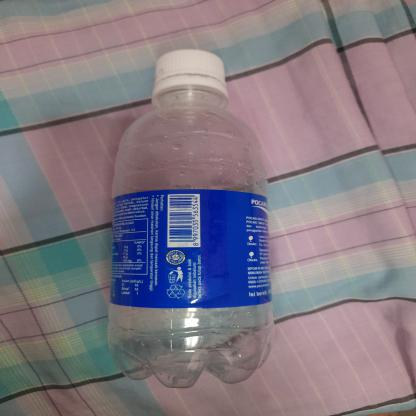bottle: (102, 47, 278, 393)
